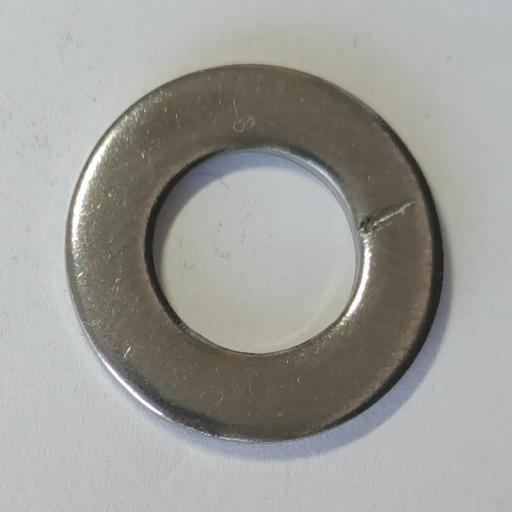scratch: (359, 200, 415, 234)
